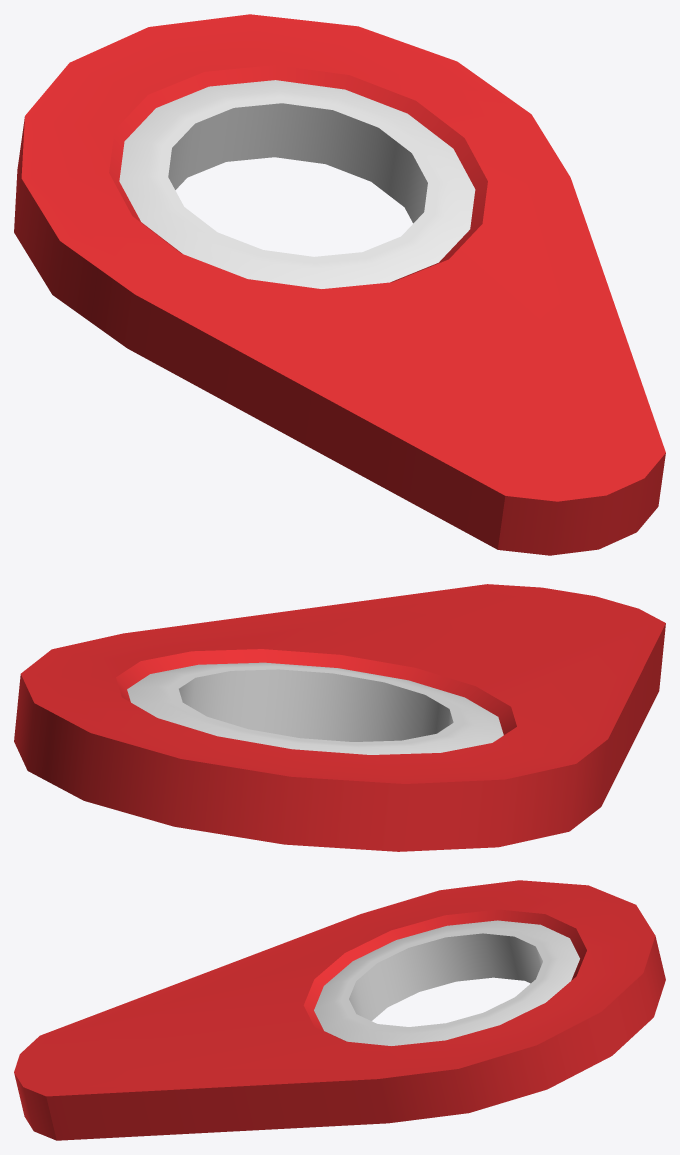
Rendered from Pin_4.glb.
The picture shows the model from 3 angles, top to bottom: view 1: azimuth 30°, elevation 25°; view 2: azimuth 150°, elevation 25°; view 3: azimuth 270°, elevation 25°; orthographic projection. The views are drawn at different scales.
Visible parts, largest first — view 1: Pin_4; view 2: Pin_4; view 3: Pin_4.
Boxes of the visible parts, box(x1,y1,x2,y2) form: Pin_4: box(14, 14, 665, 555); Pin_4: box(14, 584, 665, 851); Pin_4: box(14, 880, 665, 1140).
Bounding box in the file's own units: 0.2574 × 0.1138 × 0.3975.
